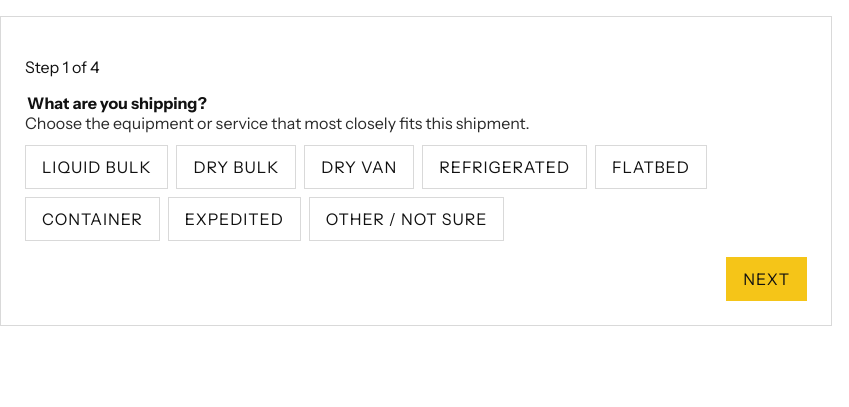
it: QuoteWizard › shows field-specific validation before advancing
Click the button "Next".
click(767, 279)  # box 726,257 -> 807,301
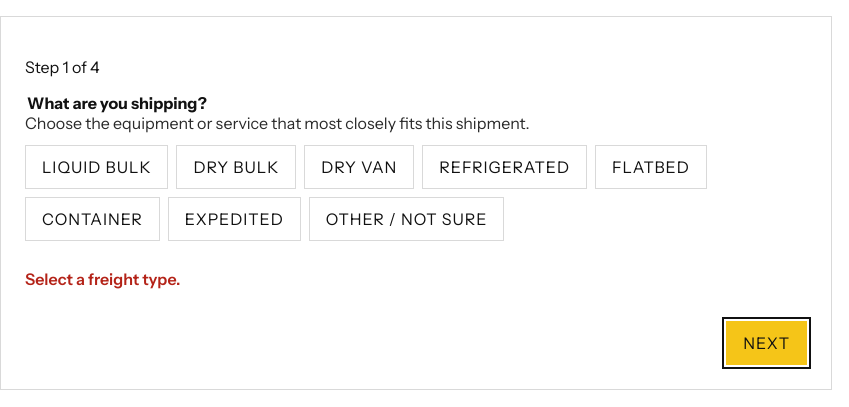
Expected: the button "Next" is shown, 726,321 -> 807,365
Expected: the message reads "Select a freight type.", 25,269 -> 180,289
